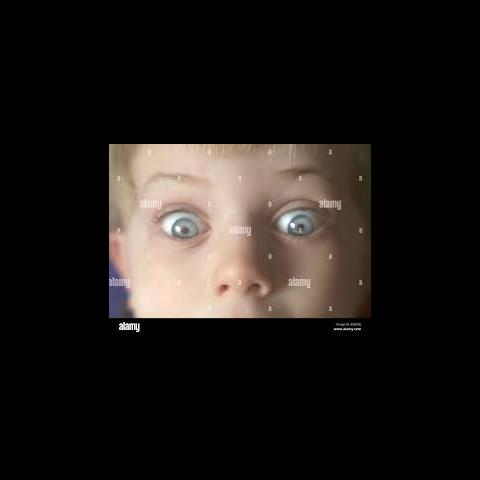opened: (138, 165, 346, 253)
